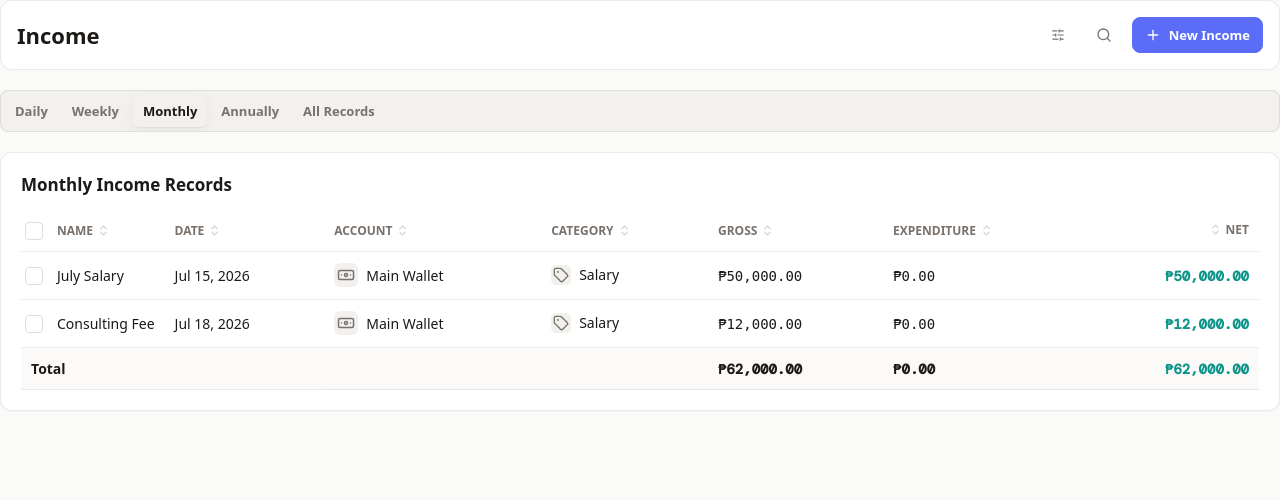
Scenario: Income search toggle › filters records by the typed query
Click the button named "Search" at (1104, 35), box [1086, 17, 1122, 53]
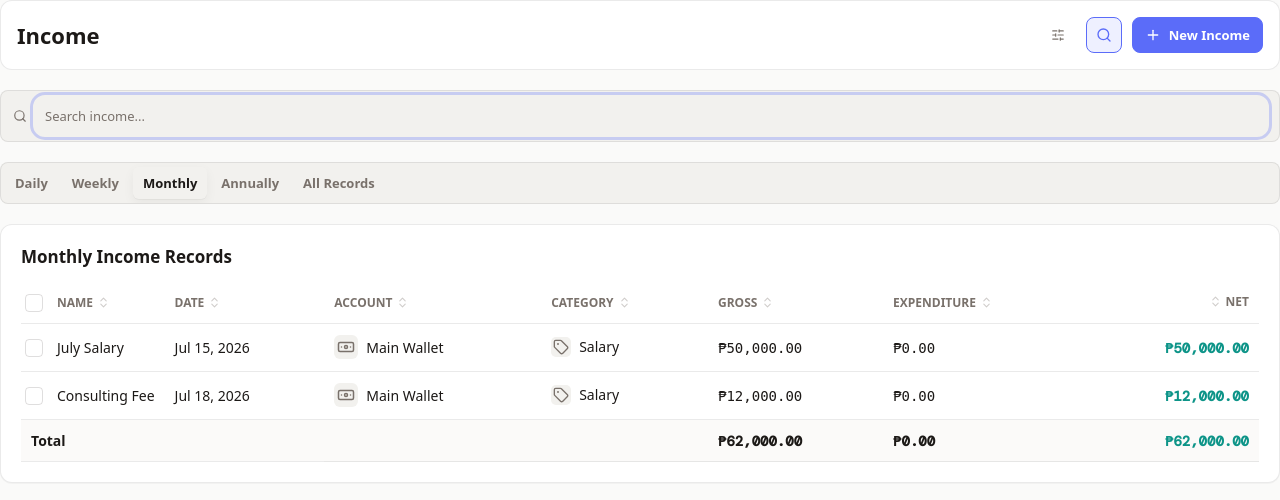
Expected: the button named "Close search" has class "search-toggle--active", [1086, 17, 1122, 53]
Type "Consulting" into the field with placeholder "Search income..." at (651, 116), box [35, 97, 1267, 135]
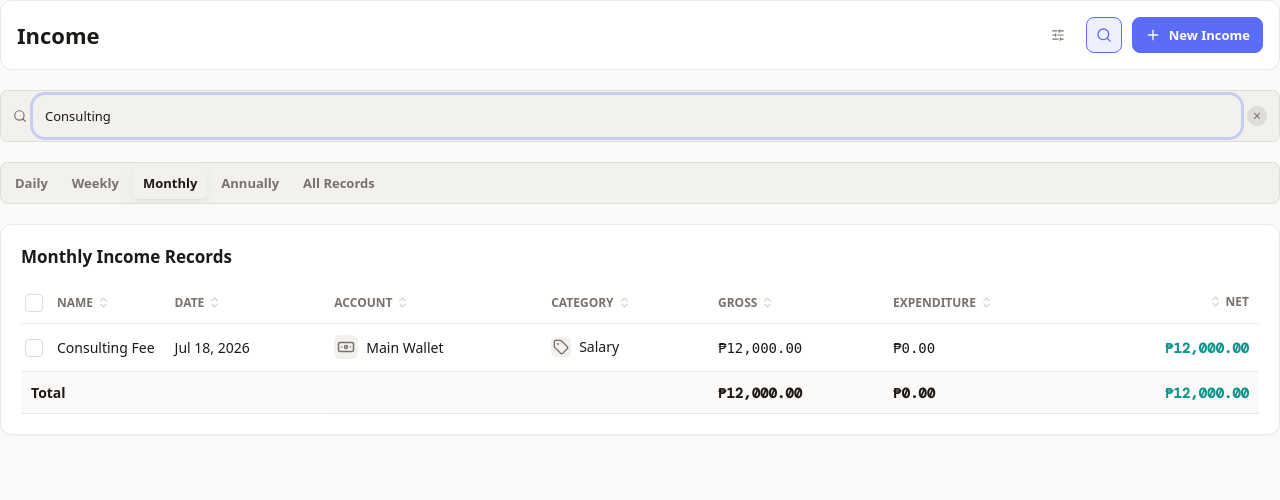
Expected: the text "Consulting Fee" is shown, [21, 324, 165, 372]
Expected: the text "July Salary" is gone
